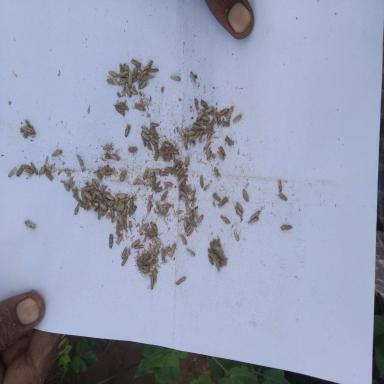pbw: (20, 125, 36, 135), (114, 104, 126, 116), (22, 220, 36, 230), (143, 59, 153, 73), (107, 232, 115, 249), (218, 195, 229, 207), (232, 112, 243, 124), (140, 124, 151, 136), (178, 193, 190, 204), (202, 138, 212, 151), (94, 188, 104, 201), (195, 214, 204, 228), (190, 182, 196, 202), (226, 105, 234, 120), (183, 152, 191, 167), (124, 123, 132, 138), (100, 164, 110, 176), (162, 140, 174, 150), (170, 241, 177, 258), (116, 70, 129, 79), (128, 204, 137, 217), (120, 246, 128, 260), (148, 276, 156, 290), (72, 202, 80, 216), (242, 188, 250, 202), (220, 214, 231, 224), (250, 209, 261, 219), (175, 275, 186, 285), (51, 149, 63, 158), (247, 216, 259, 225), (115, 234, 124, 246), (8, 166, 17, 178), (200, 98, 209, 110), (178, 232, 187, 244), (80, 189, 87, 204), (30, 162, 38, 175), (46, 169, 54, 182), (280, 224, 293, 232), (106, 78, 119, 86), (214, 255, 220, 272), (79, 200, 89, 210), (23, 119, 33, 129), (130, 58, 141, 67), (84, 190, 93, 201), (202, 124, 211, 135), (186, 226, 195, 237), (213, 245, 224, 254), (213, 112, 220, 126), (86, 196, 93, 210), (120, 169, 127, 183), (151, 175, 157, 191), (138, 78, 146, 90), (196, 109, 204, 121), (236, 201, 244, 213), (108, 70, 120, 78), (144, 139, 152, 151), (125, 82, 131, 98), (142, 130, 150, 142), (128, 71, 134, 87), (152, 268, 158, 284), (234, 205, 242, 217), (121, 253, 128, 266), (72, 192, 81, 202), (134, 102, 144, 111), (165, 165, 174, 175), (186, 247, 196, 256), (170, 147, 180, 156), (178, 180, 187, 190), (277, 192, 287, 201), (159, 208, 169, 217), (212, 192, 221, 202), (176, 170, 185, 180), (216, 150, 225, 160), (120, 102, 129, 112), (116, 202, 126, 211), (225, 135, 234, 145), (104, 168, 115, 176), (218, 108, 229, 116), (150, 221, 158, 232), (138, 223, 149, 231), (170, 74, 181, 82), (206, 129, 214, 140), (23, 168, 34, 176), (183, 214, 188, 231), (155, 198, 161, 212), (39, 164, 46, 176), (132, 65, 138, 79), (172, 157, 179, 169), (95, 169, 102, 181), (190, 70, 196, 84), (160, 202, 172, 209), (133, 173, 140, 185), (76, 154, 83, 166), (153, 148, 159, 162), (207, 254, 214, 266), (118, 197, 130, 204), (98, 202, 107, 211), (131, 238, 140, 247), (221, 118, 230, 127), (110, 215, 120, 223), (180, 188, 188, 198), (153, 235, 161, 245), (129, 87, 139, 95), (178, 176, 186, 186), (179, 168, 189, 176), (216, 112, 221, 128), (187, 216, 195, 226), (143, 167, 149, 180), (154, 179, 161, 190), (91, 178, 98, 189), (141, 132, 146, 147), (129, 194, 134, 209), (141, 76, 156, 81), (84, 184, 96, 190), (122, 63, 130, 72), (105, 192, 114, 200), (121, 218, 127, 230), (136, 266, 148, 272), (185, 130, 197, 136), (185, 202, 191, 214), (194, 97, 200, 109), (122, 205, 128, 217), (192, 124, 204, 130), (213, 166, 219, 178), (111, 153, 120, 161), (98, 209, 104, 221), (189, 207, 195, 219), (63, 182, 70, 192), (161, 191, 168, 201), (117, 193, 127, 200), (147, 200, 152, 214), (151, 139, 158, 149), (150, 168, 160, 175), (16, 166, 23, 176), (142, 232, 149, 242), (277, 178, 282, 192), (116, 222, 121, 236), (199, 174, 204, 188), (174, 167, 181, 177), (143, 270, 154, 276), (118, 62, 124, 73), (117, 220, 123, 231), (193, 210, 199, 221), (183, 133, 188, 146), (128, 220, 133, 233), (148, 254, 156, 262), (203, 182, 211, 190), (148, 246, 156, 254), (146, 177, 153, 186), (103, 144, 112, 151), (128, 146, 137, 153), (116, 210, 122, 220), (69, 179, 75, 189), (204, 108, 214, 114), (150, 122, 160, 128), (220, 146, 226, 156), (110, 206, 115, 218), (188, 136, 198, 142), (148, 68, 160, 73), (161, 247, 165, 261), (152, 136, 160, 143), (199, 129, 203, 143), (202, 120, 210, 127), (140, 70, 148, 77), (173, 165, 180, 173), (155, 243, 160, 254), (20, 164, 31, 169), (186, 223, 192, 232), (154, 186, 163, 192), (159, 170, 168, 176), (134, 244, 144, 249), (193, 120, 203, 125), (100, 184, 104, 196), (206, 148, 210, 160), (188, 139, 196, 145), (72, 188, 78, 196), (136, 180, 145, 185), (192, 205, 198, 212), (67, 176, 73, 183), (164, 247, 172, 252), (163, 182, 173, 186), (171, 153, 175, 163), (105, 153, 111, 159), (93, 205, 98, 212), (202, 116, 210, 120), (148, 172, 154, 177), (213, 106, 218, 112)
